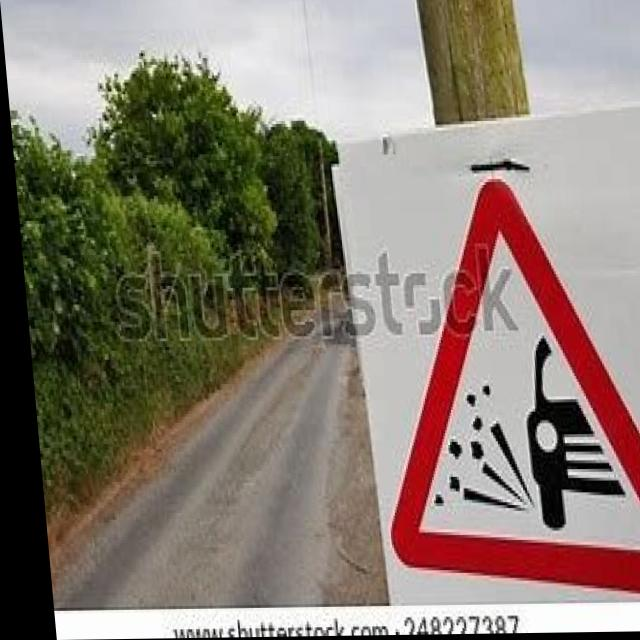LOOSE_GRAVEL: (354, 179, 640, 601)
